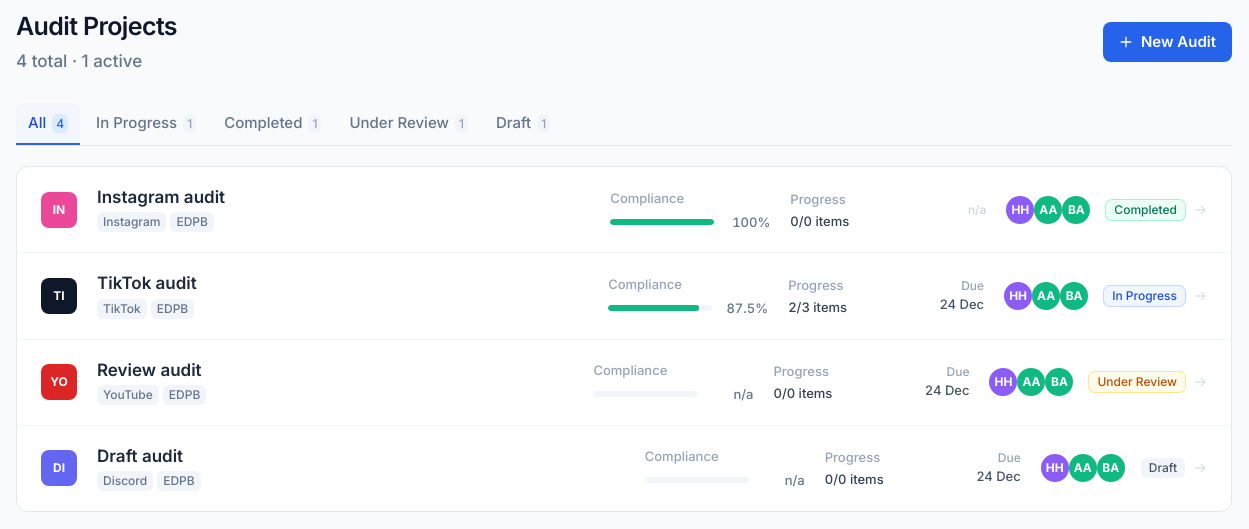
Test: ProjectsPage › filters by status, with a count on each tab
This screenshot has width=1249, height=529.
Check: the text "TikTok audit" is shown, box [97,273,197,293]
Check: the 2nd text "1" is shown, box [308,114,322,133]
Click the button "Completed1" at (273, 124), box [212,103,334,145]
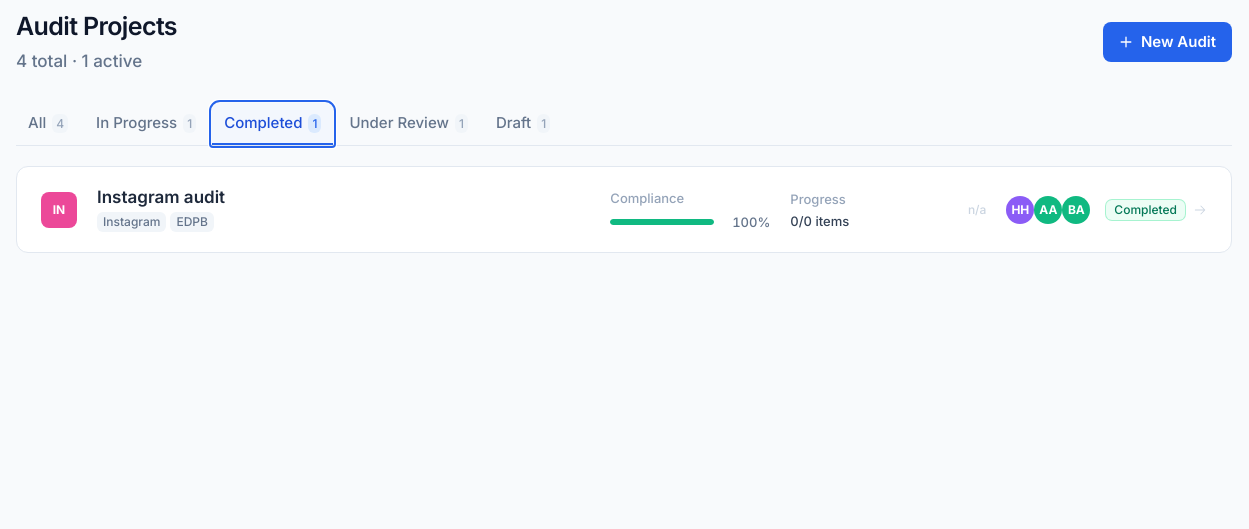
Check: the text "Instagram audit" is shown, box [97,187,225,207]
Check: the link "TikTok audit" is gone
Click the button "Under Review1" at (409, 124), box [337,103,480,145]
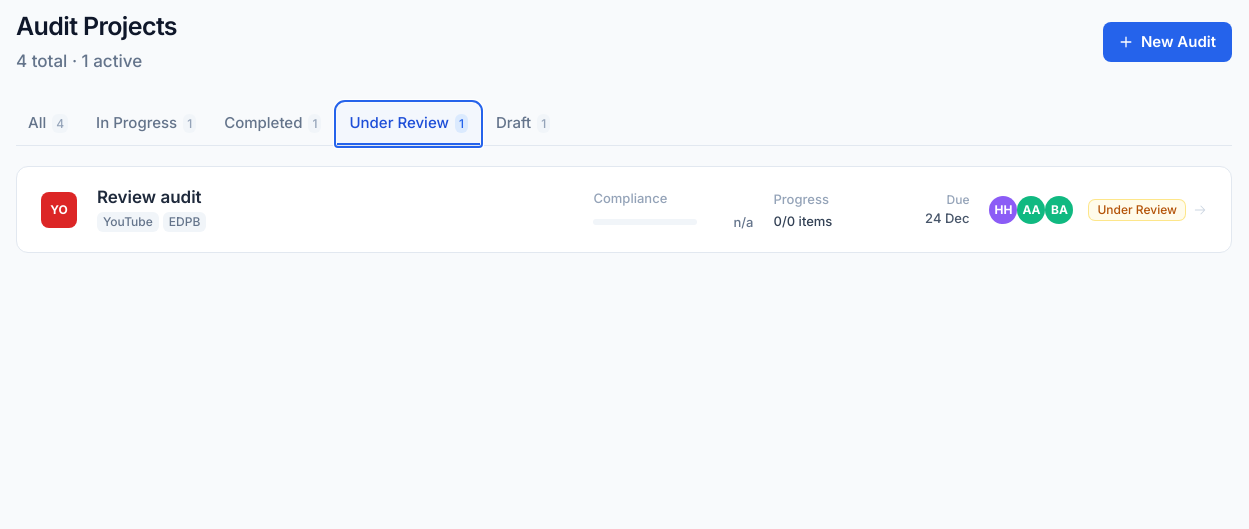
Check: the text "Review audit" is shown, box [97,187,202,207]
